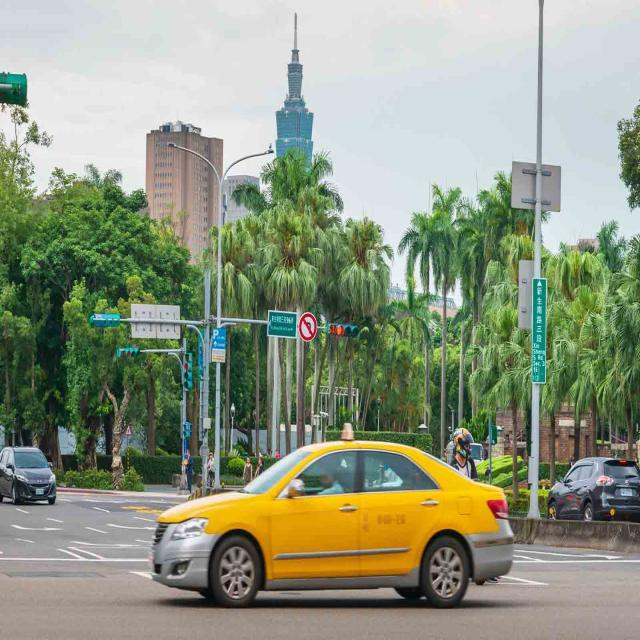taxi: (82, 376, 625, 640)
